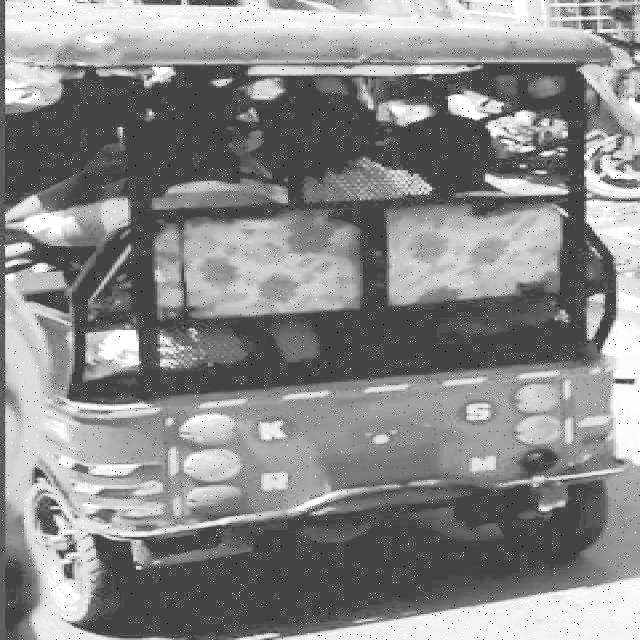Toto: (0, 0, 633, 615)
